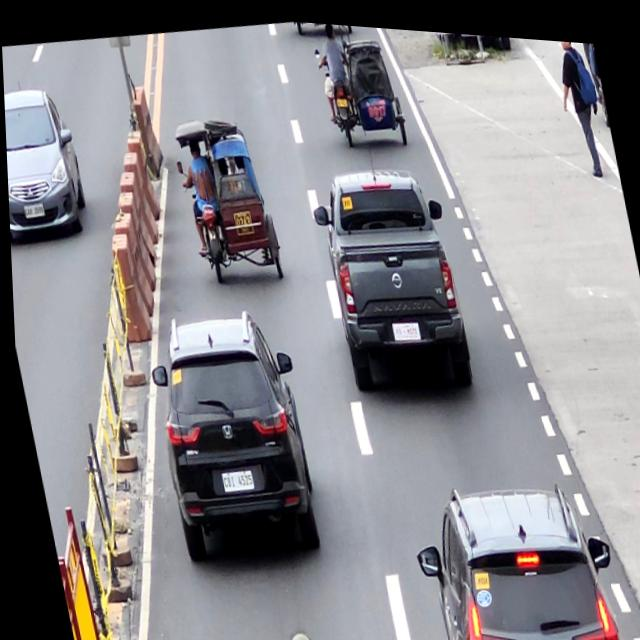Car: (137, 299, 325, 569), (306, 154, 475, 399), (402, 457, 623, 640)
License-Plate: (217, 465, 252, 490), (389, 315, 418, 338), (334, 90, 349, 104)
Tricycle: (166, 108, 286, 289), (313, 29, 411, 151)
